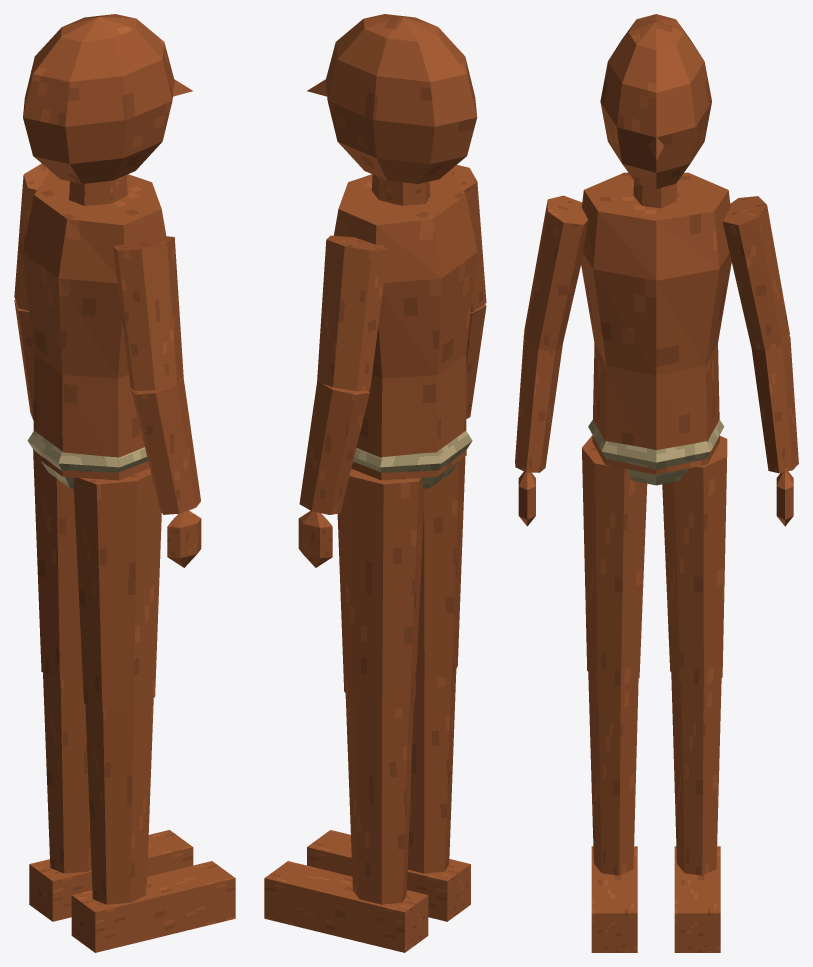
The model's file is cuerpo_nino.glb.
3 renders of one model, left to right at view 1: azimuth 30°, elevation 25°; view 2: azimuth 150°, elevation 25°; view 3: azimuth 270°, elevation 25°, orthographic. The views are drawn at different scales.
Visible parts, largest first — view 1: torso, cabeza, muslo_der, pierna_der, pie_der, brazo_der, muslo_izq, pierna_izq, antebrazo_der, pie_izq, pelvis, brazo_izq (+3 smaller); view 2: torso, cabeza, muslo_izq, pierna_izq, pie_izq, brazo_izq, muslo_der, pierna_der, antebrazo_izq, pie_der, pelvis, brazo_der (+3 smaller); view 3: torso, cabeza, muslo_der, muslo_izq, pierna_der, pierna_izq, brazo_izq, brazo_der, antebrazo_izq, antebrazo_der, pie_izq, pie_der (+4 smaller).
Boxes of the visible parts, left/top/right/bottom form: torso: left=22, top=171, right=166, bottom=480; cabeza: left=23, top=14, right=192, bottom=183; muslo_der: left=73, top=468, right=161, bottom=709; pierna_der: left=85, top=698, right=153, bottom=904; pie_der: left=71, top=861, right=235, bottom=952; brazo_der: left=113, top=235, right=183, bottom=391; muslo_izq: left=33, top=449, right=82, bottom=679; pierna_izq: left=43, top=672, right=91, bottom=873; antebrazo_der: left=131, top=379, right=200, bottom=514; pie_izq: left=29, top=830, right=193, bottom=921; pelvis: left=27, top=431, right=147, bottom=488; brazo_izq: left=14, top=163, right=50, bottom=310; torso: left=334, top=171, right=477, bottom=480; cabeza: left=307, top=14, right=477, bottom=183; muslo_izq: left=337, top=469, right=424, bottom=709; pierna_izq: left=345, top=694, right=413, bottom=904; pie_izq: left=264, top=861, right=428, bottom=952; brazo_izq: left=317, top=235, right=387, bottom=391; muslo_der: left=416, top=456, right=465, bottom=679; pierna_der: left=407, top=669, right=456, bottom=873; antebrazo_izq: left=299, top=381, right=369, bottom=514; pie_der: left=307, top=830, right=470, bottom=921; pelvis: left=353, top=431, right=472, bottom=488; brazo_der: left=450, top=165, right=486, bottom=312; torso: left=581, top=172, right=731, bottom=474; cabeza: left=600, top=14, right=711, bottom=188; muslo_der: left=582, top=435, right=647, bottom=686; muslo_izq: left=662, top=436, right=727, bottom=686; pierna_der: left=588, top=672, right=638, bottom=875; pierna_izq: left=671, top=673, right=721, bottom=875; brazo_izq: left=722, top=196, right=789, bottom=351; brazo_der: left=524, top=195, right=588, bottom=350; antebrazo_izq: left=751, top=335, right=798, bottom=473; antebrazo_der: left=515, top=333, right=562, bottom=472; pie_izq: left=674, top=846, right=720, bottom=952; pie_der: left=591, top=846, right=637, bottom=952.
Bounding box in the file's own units: 0.25 × 1.2 × 0.35.
Materials: 1 (1 with a texture image).
